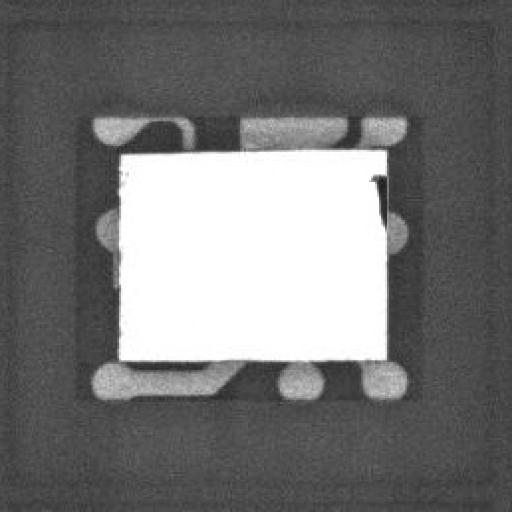DIE_BROKEN: (365, 168, 389, 226)
